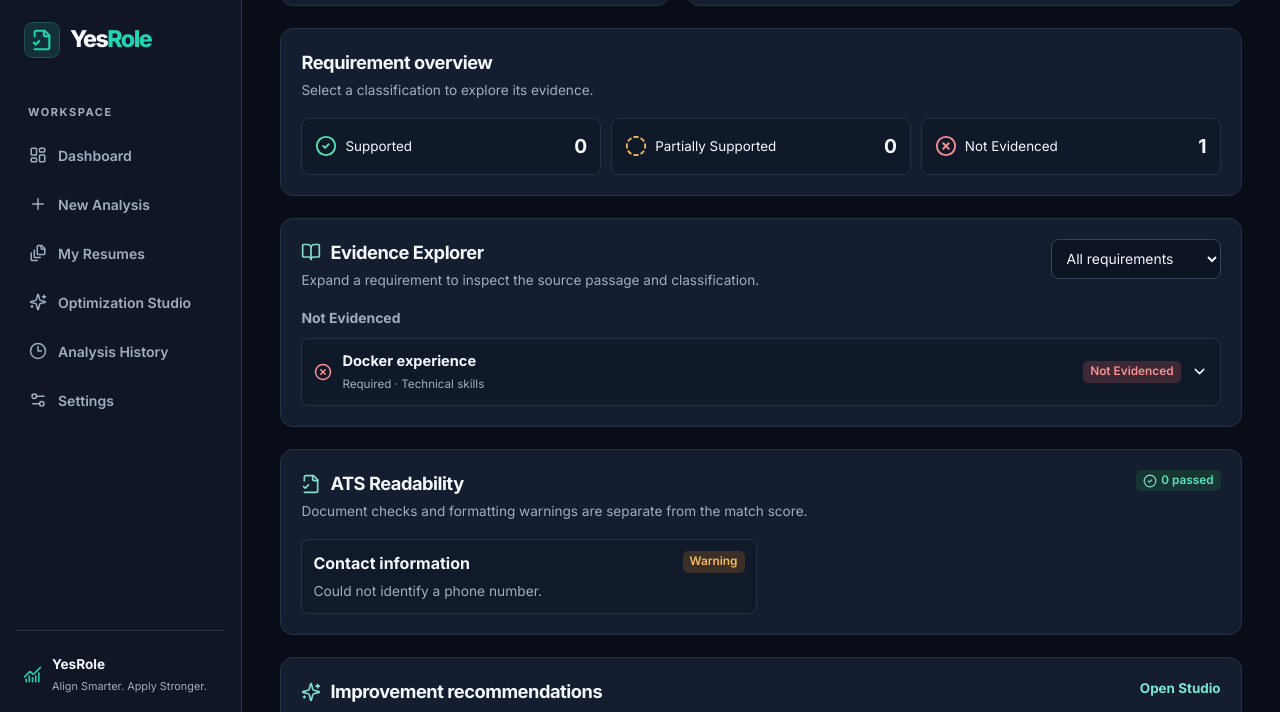
Test case: report displays exact evidence and makes gaps independently filterable
(page scrolled)
Click the text "Docker experience": point(409, 361) x1=342 y1=352 x2=476 y2=370
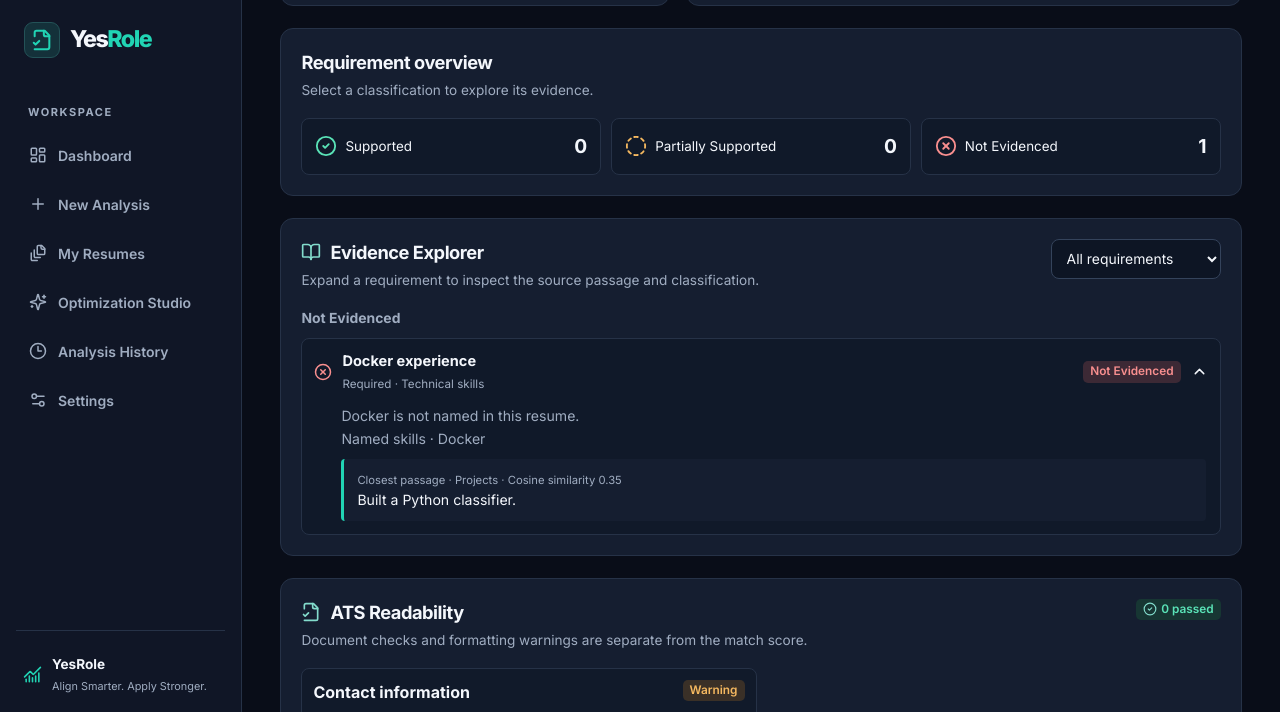
Check: the text "Built a Python classifier." is shown, box x1=357 y1=491 x2=516 y2=508
Select "Supported" in the dropdown named "Filter by classification": point(1136, 259) x1=1051 y1=239 x2=1221 y2=279
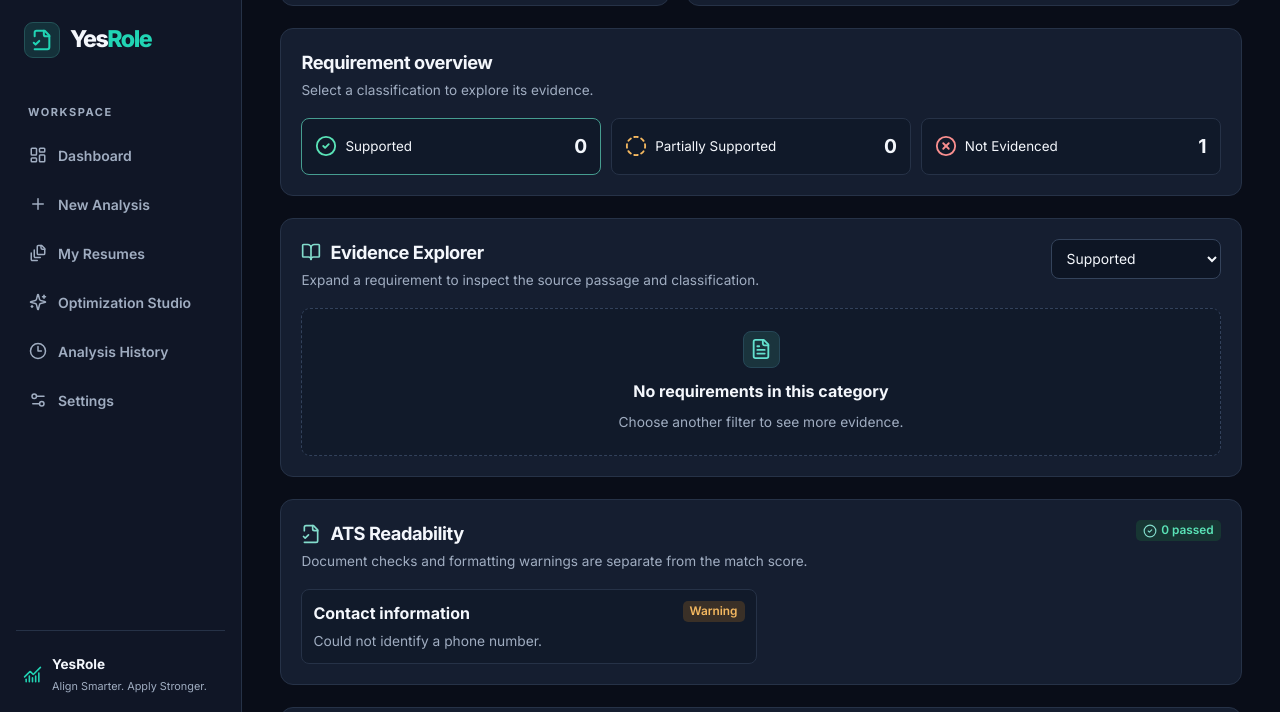
Check: the heading "ATS Readability" is shown, box x1=301 y1=522 x2=464 y2=544
Check: the heading "Docker experience" is gone
Check: the text "No requirements in this category" is shown, box x1=633 y1=379 x2=889 y2=403
